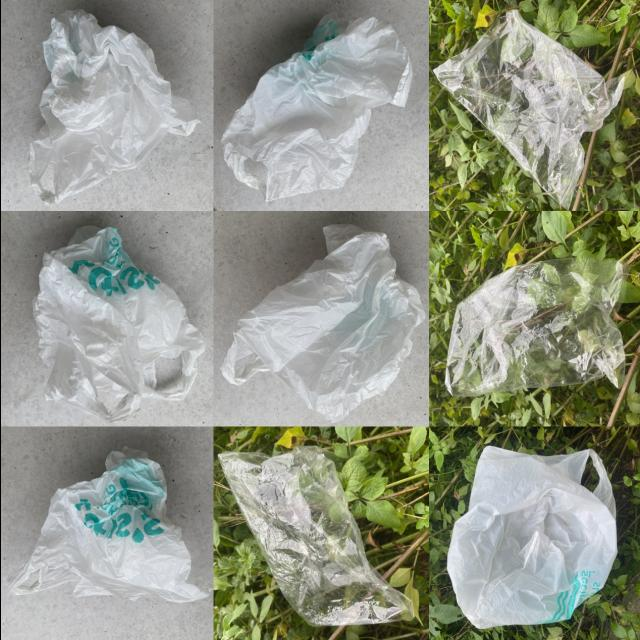plastik: (220, 225, 425, 424), (433, 11, 623, 208), (220, 13, 411, 201), (218, 446, 411, 626), (32, 227, 203, 422), (29, 11, 197, 205), (8, 448, 207, 603), (447, 446, 616, 628), (444, 258, 627, 396)
